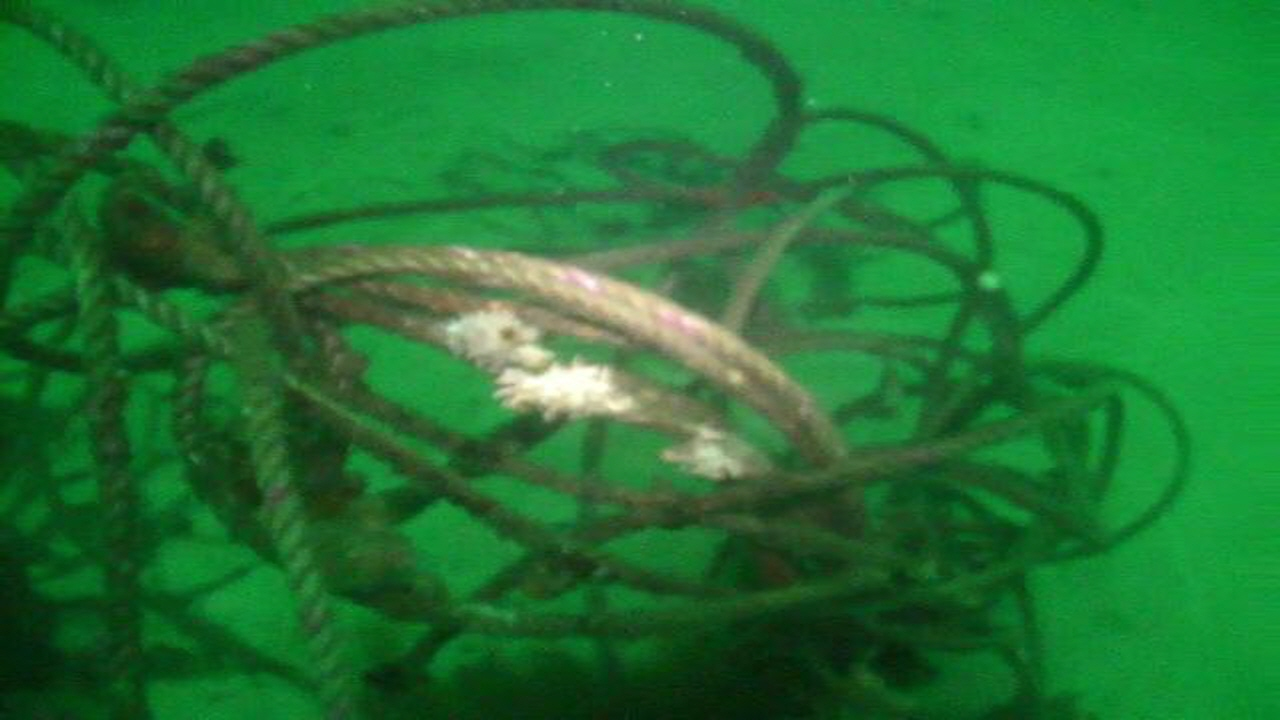bundle of ropes: (0, 0, 1191, 720)
